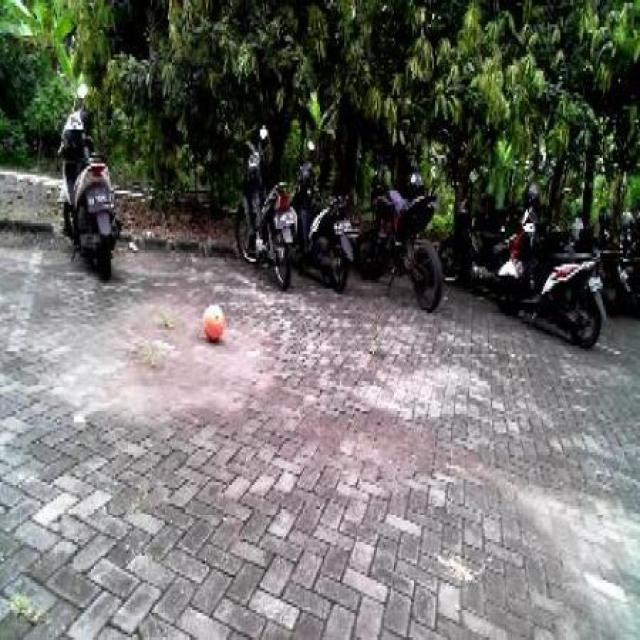buoy: (197, 292, 231, 348)
